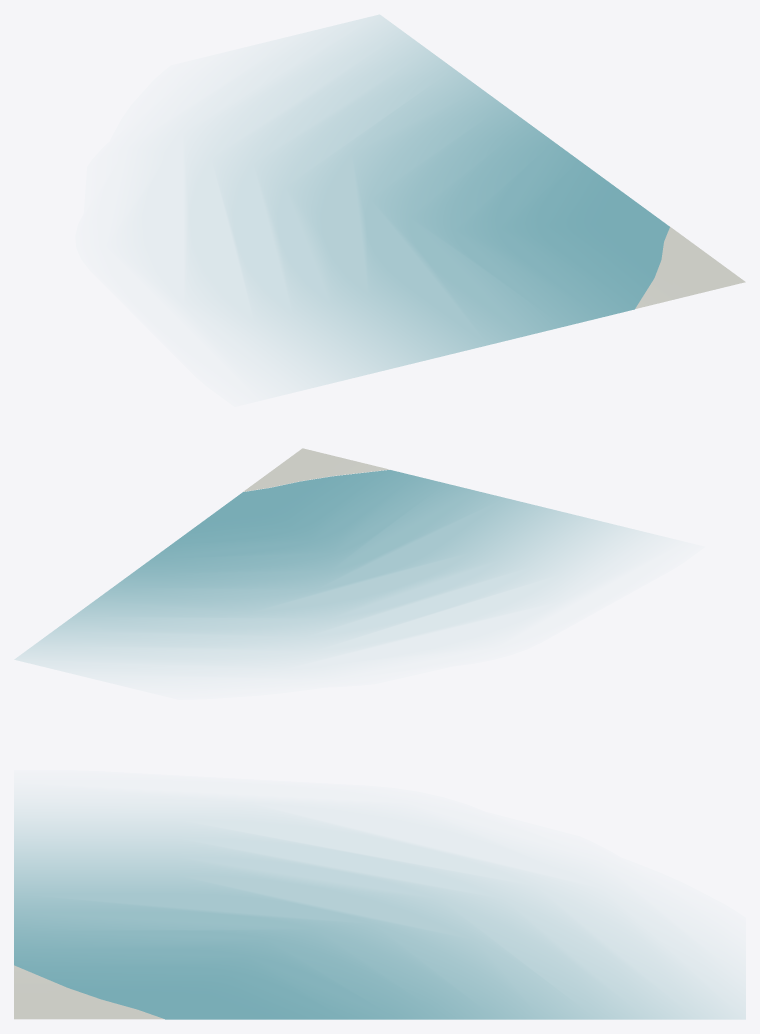
3 renders of one model, top to bottom at view 1: azimuth 30°, elevation 25°; view 2: azimuth 150°, elevation 25°; view 3: azimuth 270°, elevation 25°, orthographic. The views are drawn at different scales.
Parts seen in each view (by area): view 1: city; view 2: city; view 3: city.
Boxes of the visible parts, <box> form: city: <box>185,15,745,387</box>; city: <box>15,448,644,670</box>; city: <box>14,807,745,1019</box>.
Bounding box in the file's own units: 443 × 0.18 × 500.
